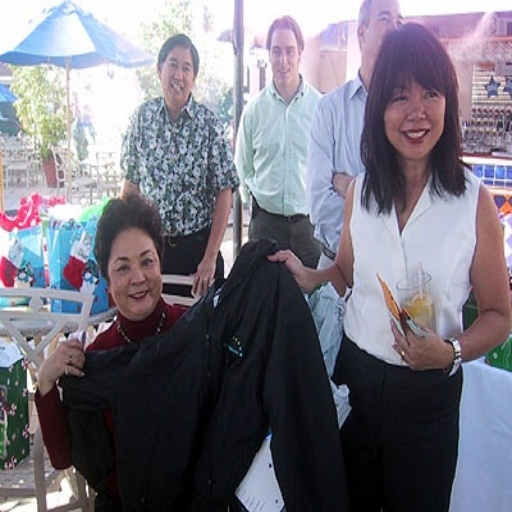hand: (387, 310, 449, 373), (33, 348, 81, 404), (266, 245, 305, 295), (192, 256, 220, 296), (331, 168, 352, 194)
